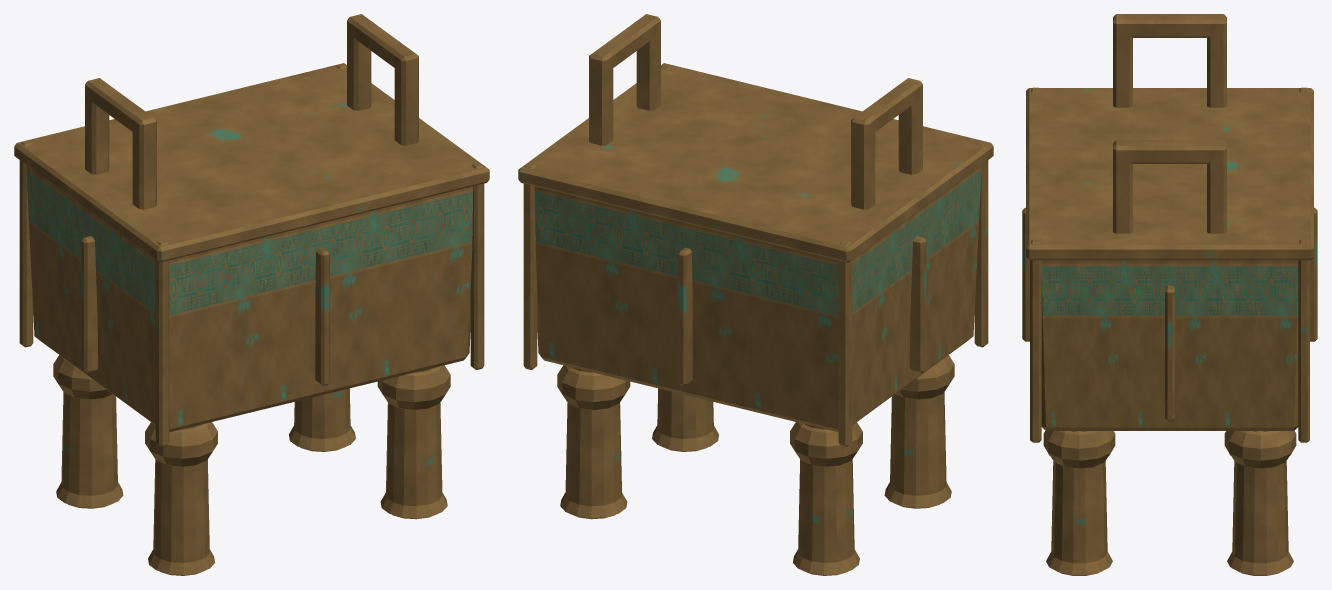
The model's file is bronze_ding.glb.
3 renders of one model, left to right at view 1: azimuth 30°, elevation 25°; view 2: azimuth 150°, elevation 25°; view 3: azimuth 270°, elevation 25°, orthographic.
Parts seen in each view (by area): view 1: DingCast, DingBody; view 2: DingCast, DingBody; view 3: DingCast, DingBody.
Part boxes in pixels (x1,y1,x2,y2): DingCast: (14, 14, 489, 575); DingBody: (26, 165, 473, 432); DingCast: (518, 14, 993, 575); DingBody: (534, 165, 981, 432); DingCast: (1022, 14, 1317, 575); DingBody: (1041, 260, 1298, 430).
Size of what is drawn, in the model's own units: 1.15 by 1.41 by 0.88.
Materials: 3 (2 with a texture image).
